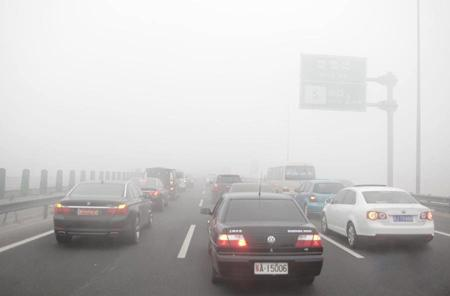bus: (263, 164, 316, 201)
car: (199, 190, 323, 285), (320, 184, 435, 249), (53, 179, 152, 242), (294, 179, 347, 220), (225, 182, 274, 219), (127, 177, 170, 211), (143, 166, 178, 199), (209, 173, 242, 202), (170, 171, 186, 192)
